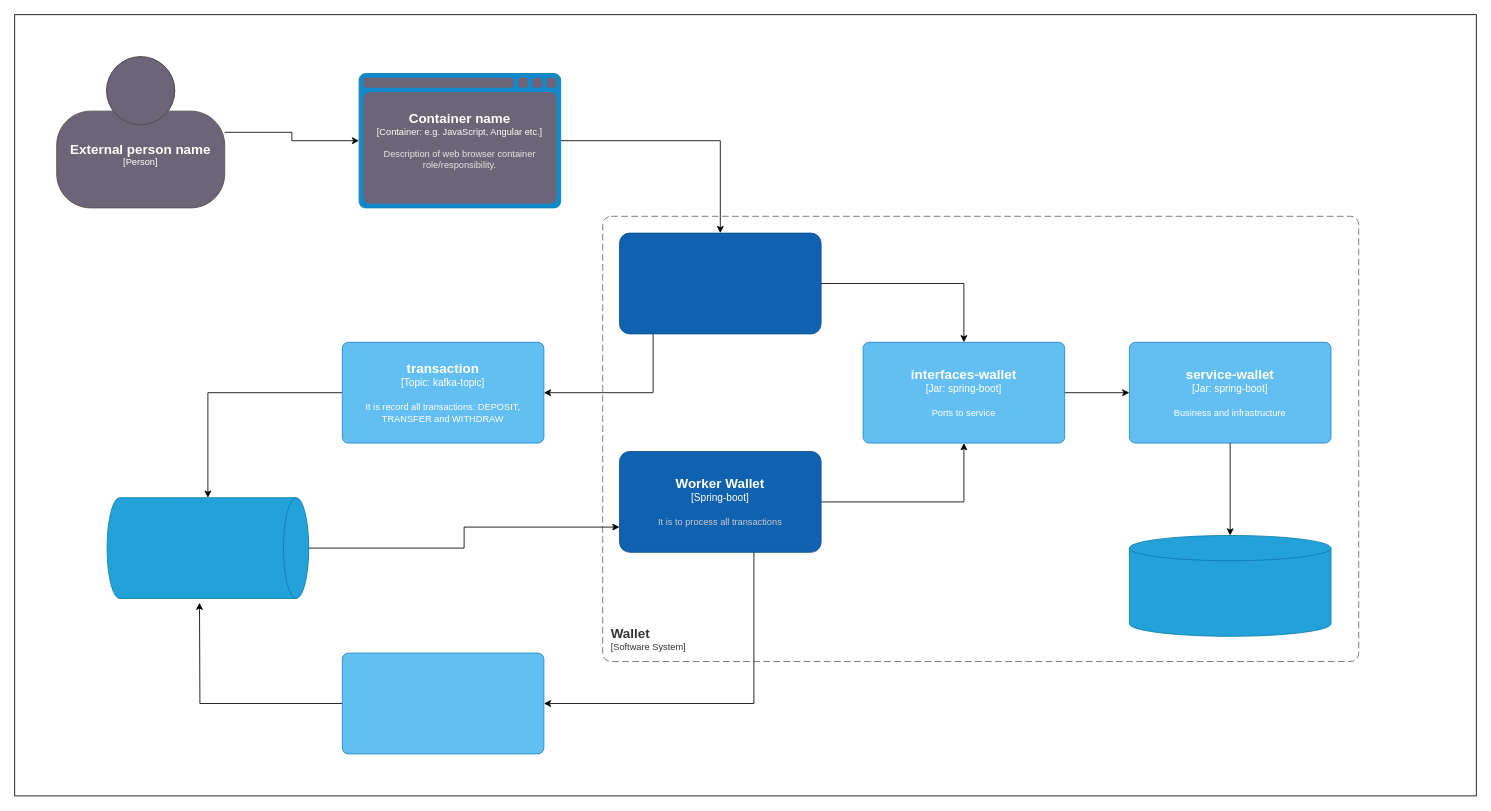
The diagram is 1491 pixels wide and 811 high, and some of its shapes have lost their labels. Here are the shapes that lost their labels. From the top down, the centre of each, then its label:
point (720, 283): Api Wallet [Spring-boot] Rest Api to consult and transactions
point (207, 547): Container name [Container: e.g. Apache Kafka, etc.] Organization's Kafka
point (1230, 585): Wallet Database [Container: Postgres] database of the system
point (442, 703): notification [Topic: kafka-topic] It is to record all notifications to user
